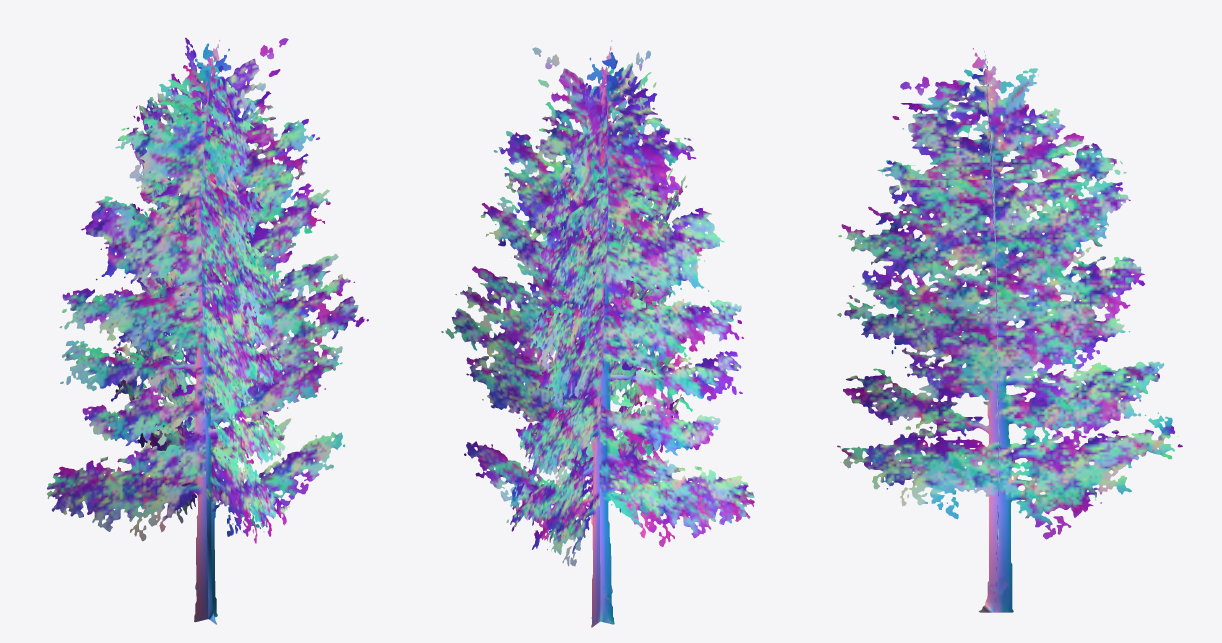
File: beech_tree_04_cross_s.FBX
3 renders of one model, left to right at view 1: azimuth 30°, elevation 25°; view 2: azimuth 150°, elevation 25°; view 3: azimuth 270°, elevation 25°, orthographic. The views are drawn at different scales.
Parts seen in each view (by area): view 1: beech_tree_04_cross; view 2: beech_tree_04_cross; view 3: beech_tree_04_cross.
Part boxes in pixels (x1,y1,x2,y2): beech_tree_04_cross: (47, 37, 368, 624); beech_tree_04_cross: (441, 40, 754, 627); beech_tree_04_cross: (837, 48, 1182, 612).
Bounding box in the file's own units: 12899 × 19421 × 12178.
